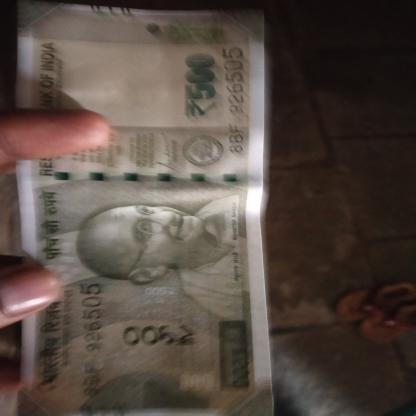New500Front: (18, 9, 258, 415)
